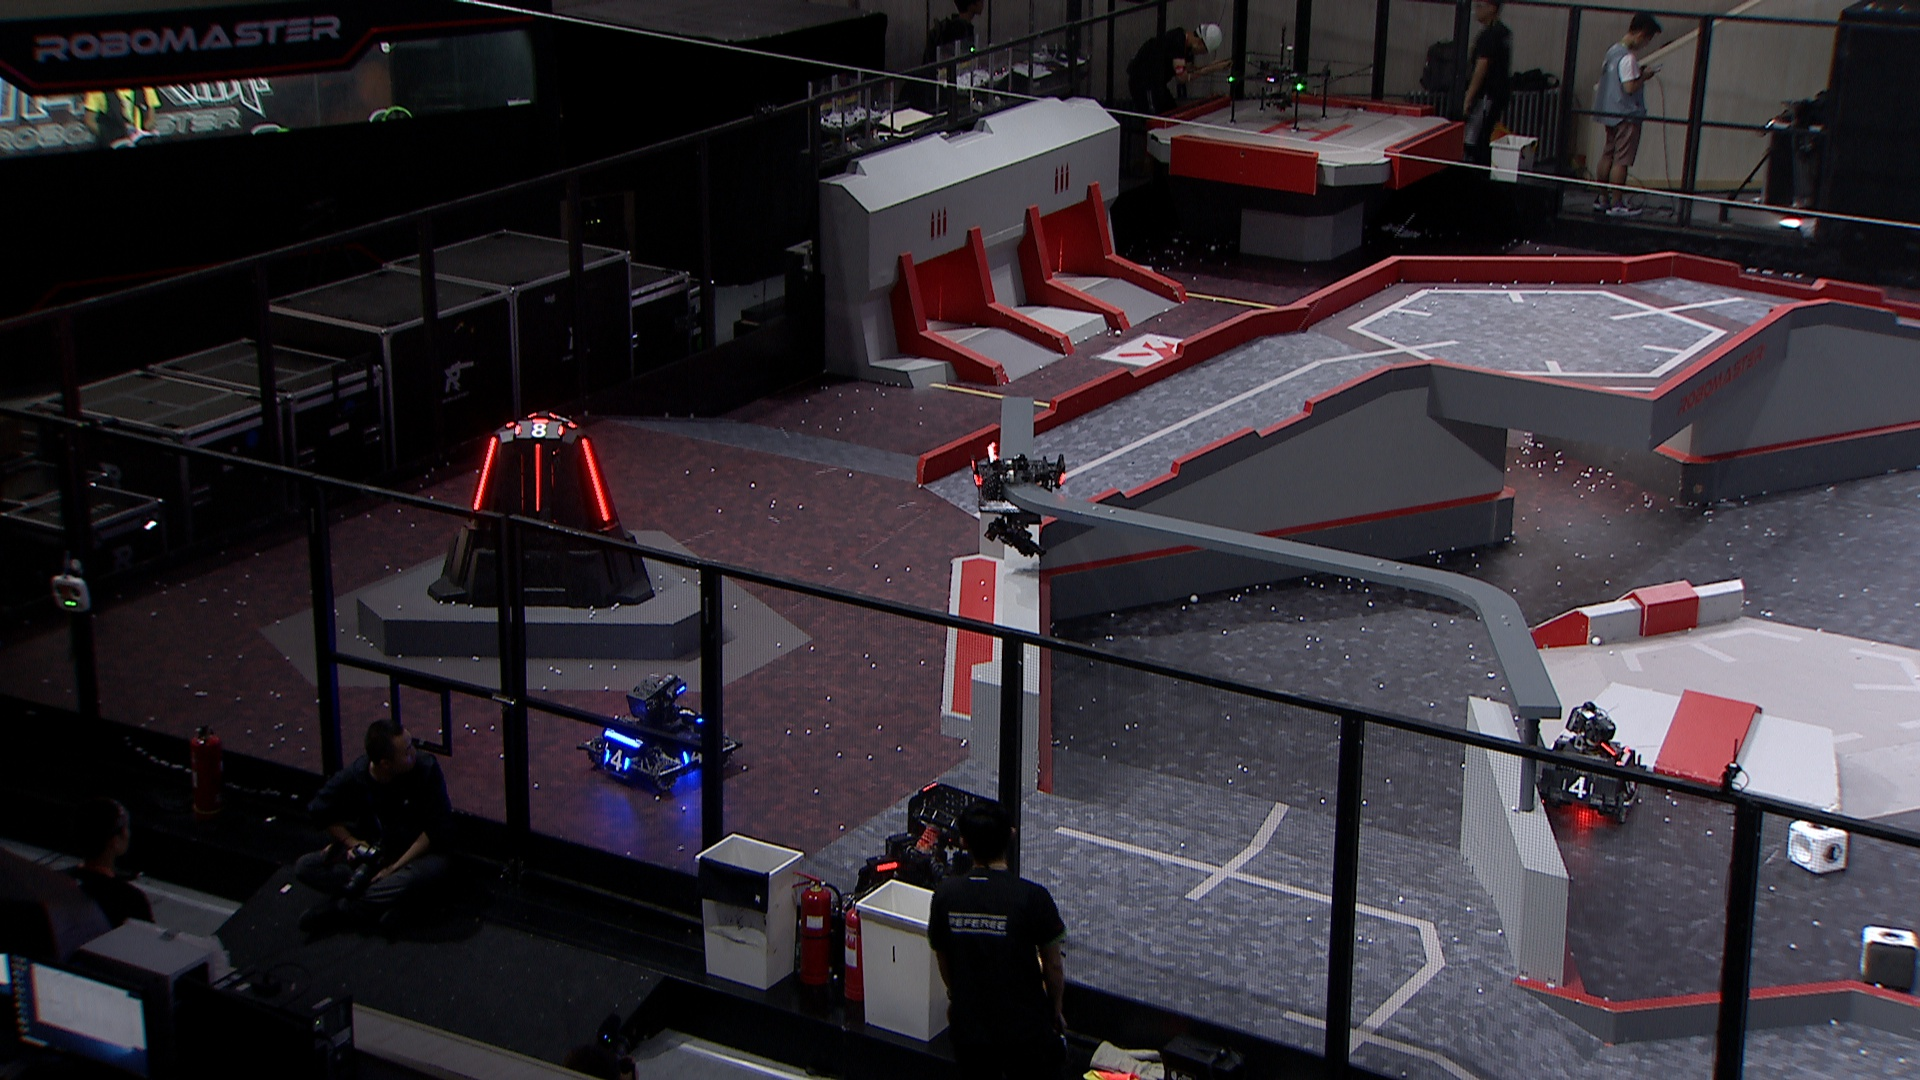armor: (579, 436, 613, 524), (472, 436, 498, 513), (513, 418, 564, 443), (531, 443, 545, 514), (1560, 775, 1596, 799), (604, 745, 632, 774), (968, 458, 986, 491), (678, 707, 704, 727), (683, 746, 707, 767)
base: (430, 411, 655, 611)
car: (839, 781, 1029, 955), (575, 674, 740, 793), (1534, 703, 1647, 825)
watcher: (967, 440, 1067, 556)
